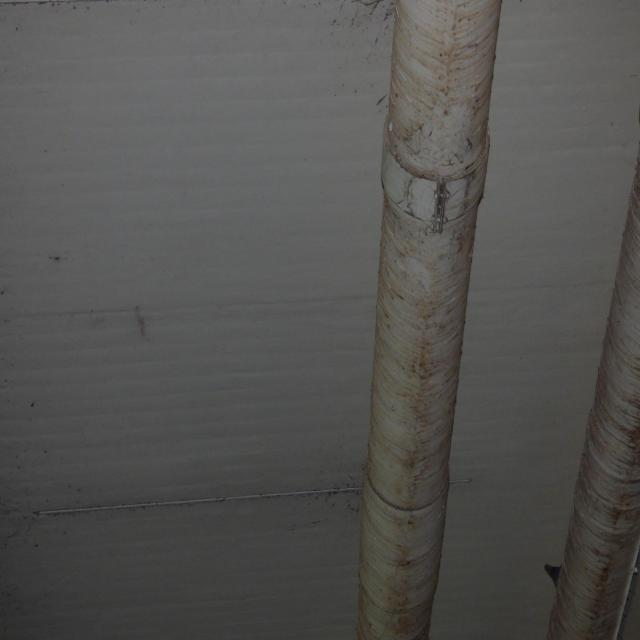corrosion: (351, 0, 508, 640), (545, 156, 640, 640)
